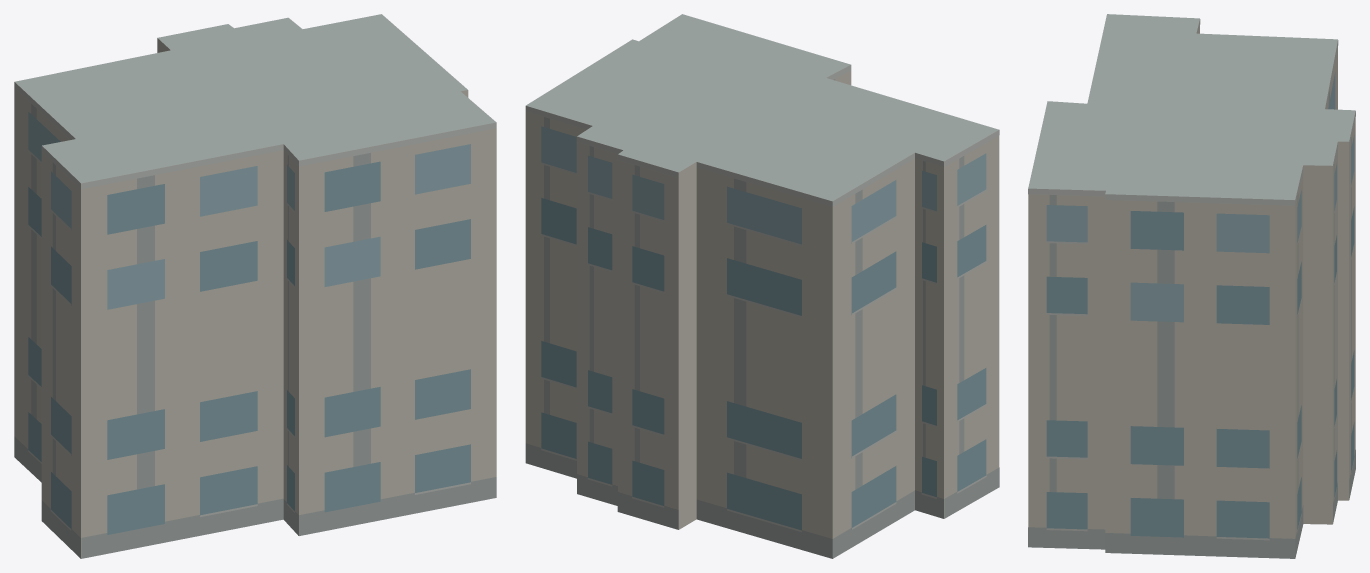
Rendered from survey-upis-32458095.glb.
3 renders of one model, left to right at view 1: azimuth 30°, elevation 25°; view 2: azimuth 150°, elevation 25°; view 3: azimuth 270°, elevation 25°, orthographic. The views are drawn at different scales.
Visible parts, largest first — view 1: survey-upis-32458095.tmp; view 2: survey-upis-32458095.tmp; view 3: survey-upis-32458095.tmp.
Boxes of the visible parts, x1,y1,x2,y2 form: survey-upis-32458095.tmp: (14, 14, 496, 558); survey-upis-32458095.tmp: (525, 14, 999, 558); survey-upis-32458095.tmp: (1028, 14, 1355, 558).
Size of the model in its own units: 16.98 by 15.25 by 12.63.
